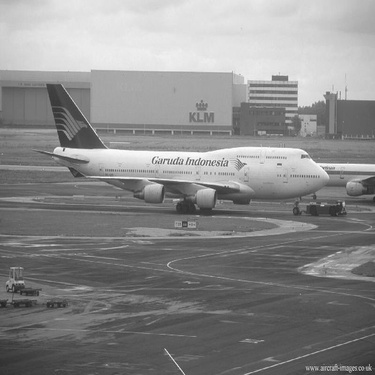airplane: (19, 74, 334, 219), (278, 152, 372, 205)
